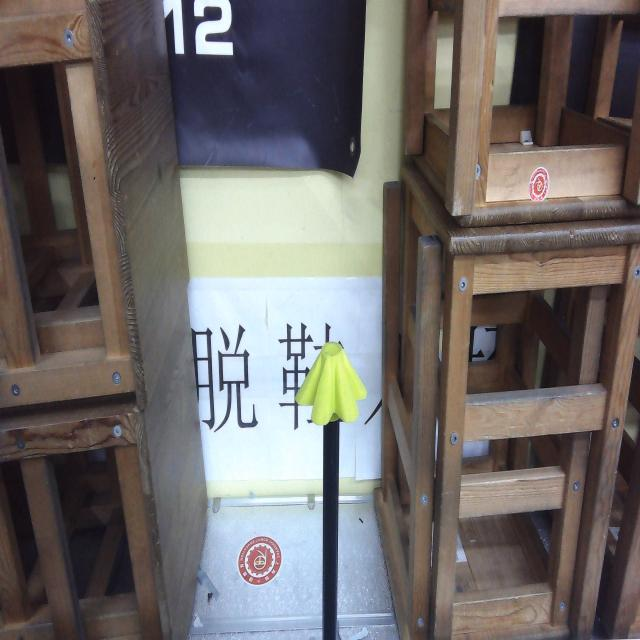Yellow-Stake-Head: (294, 341, 368, 424)
